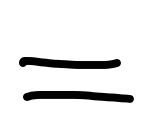eqv: (16, 51, 136, 104)
